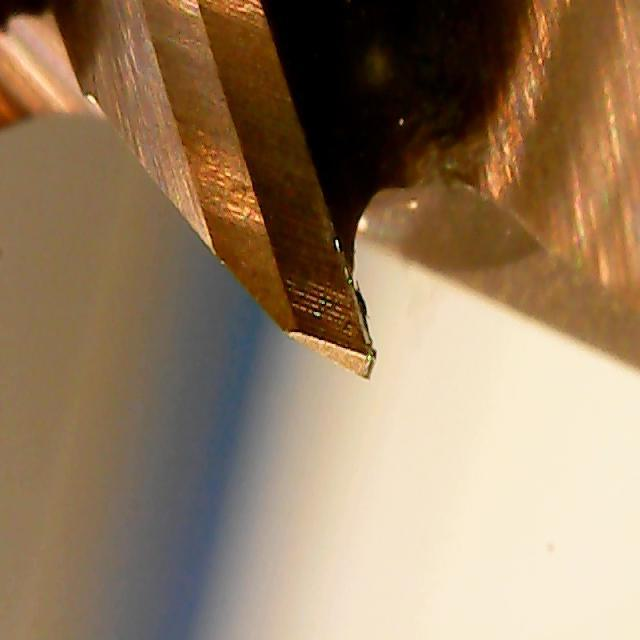Tool-wear-class-1: (224, 168, 391, 393)
